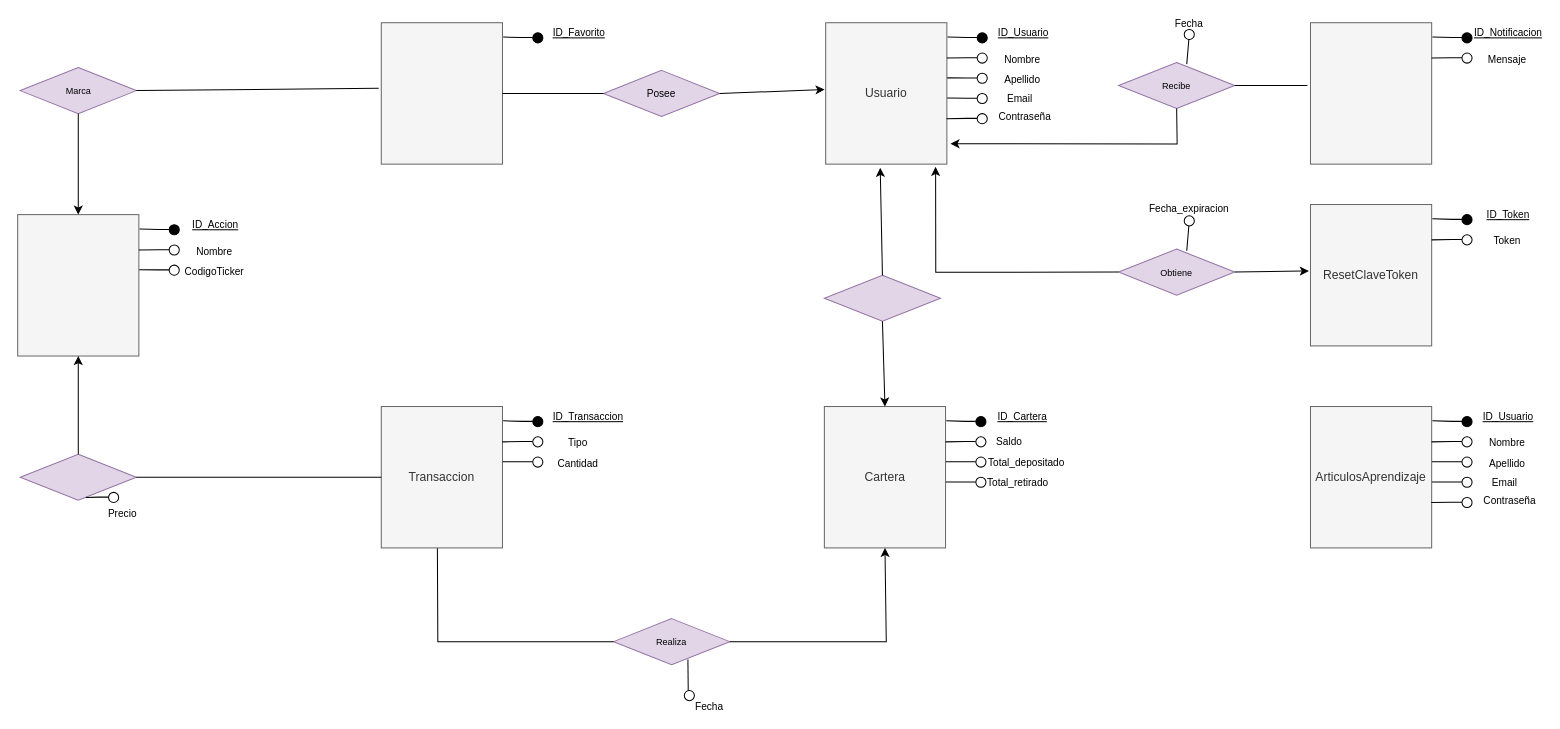
Some shapes in this 1560 by 729 pixel diagram are drawn without their labels. The centre of each missing label's shape, as x and y in pixels:
Accion: the point at 78,285
AccionFavoritas: the point at 441,93
Notificación: the point at 1370,93
Pertenece: the point at 77,476
Tiene: the point at 882,297
